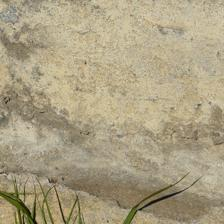Crack: (2, 84, 167, 136)
